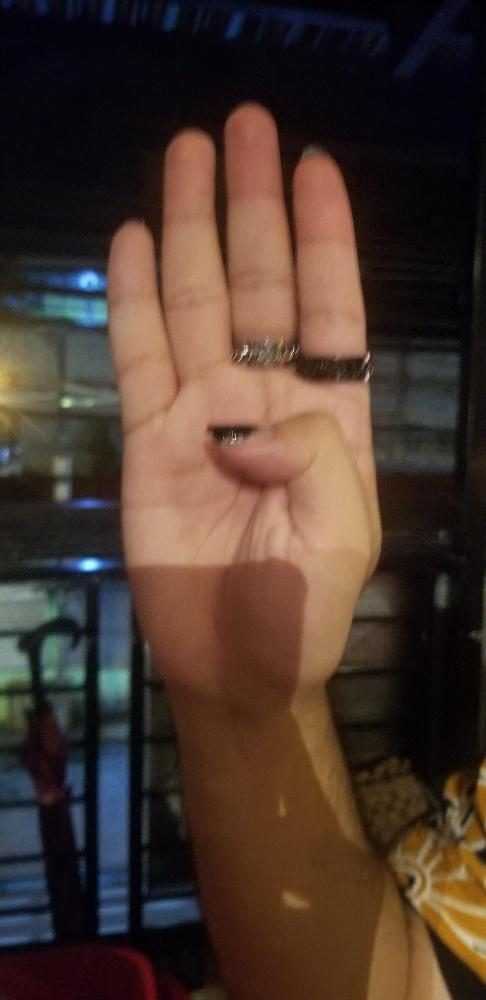b: (104, 105, 386, 686)
